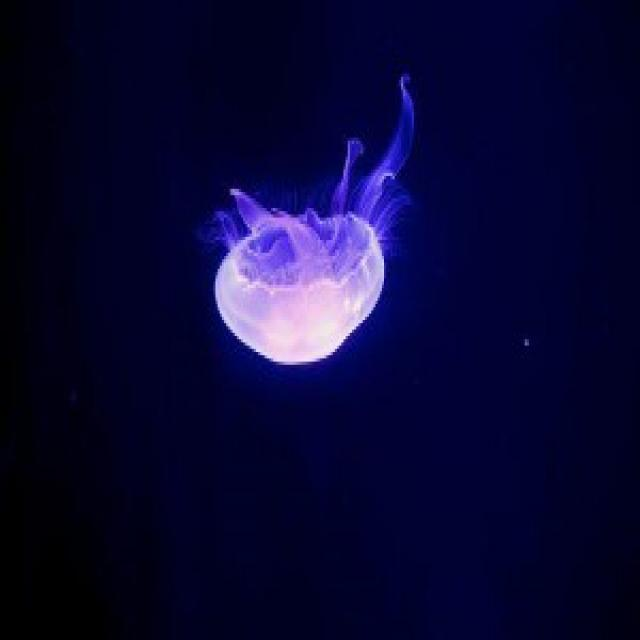Jellyfish: (196, 104, 417, 365)
